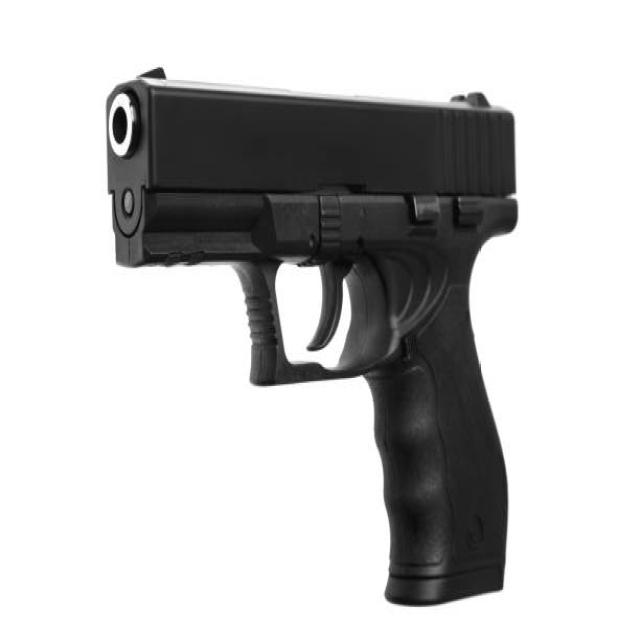pistol: (103, 65, 523, 618)
